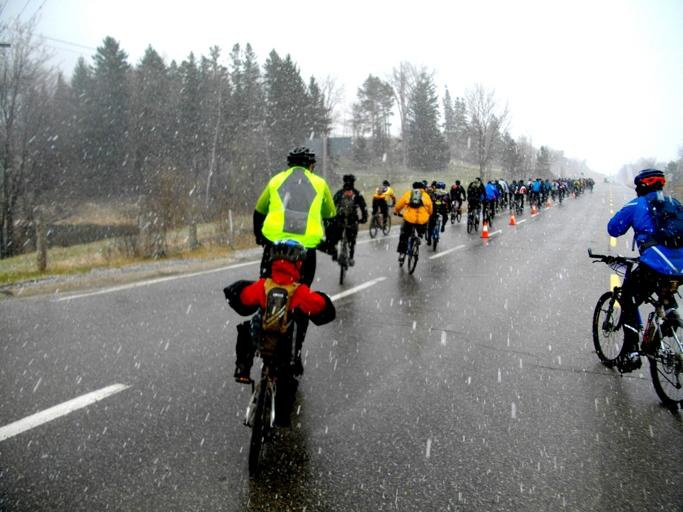non-vehicle: (584, 245, 682, 410), (234, 345, 304, 476), (322, 215, 362, 282), (392, 210, 422, 273), (368, 202, 392, 237)
